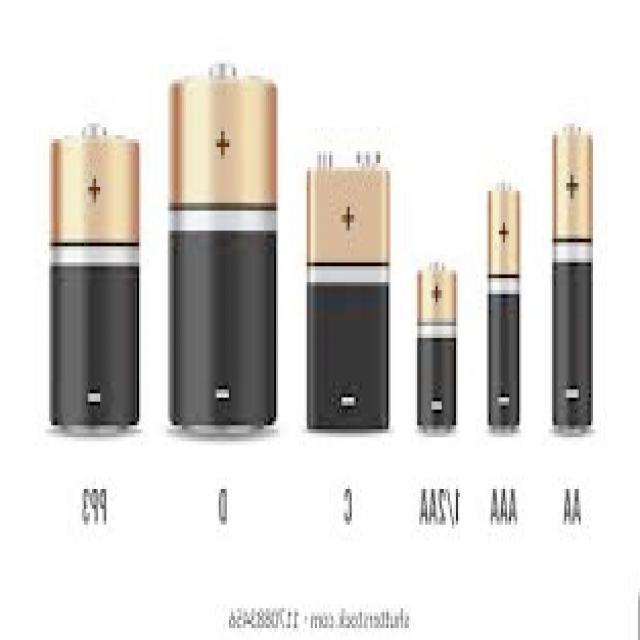battery: (167, 64, 278, 426), (49, 123, 140, 427), (306, 151, 390, 431), (552, 126, 594, 429), (487, 182, 521, 428), (416, 261, 457, 429)
